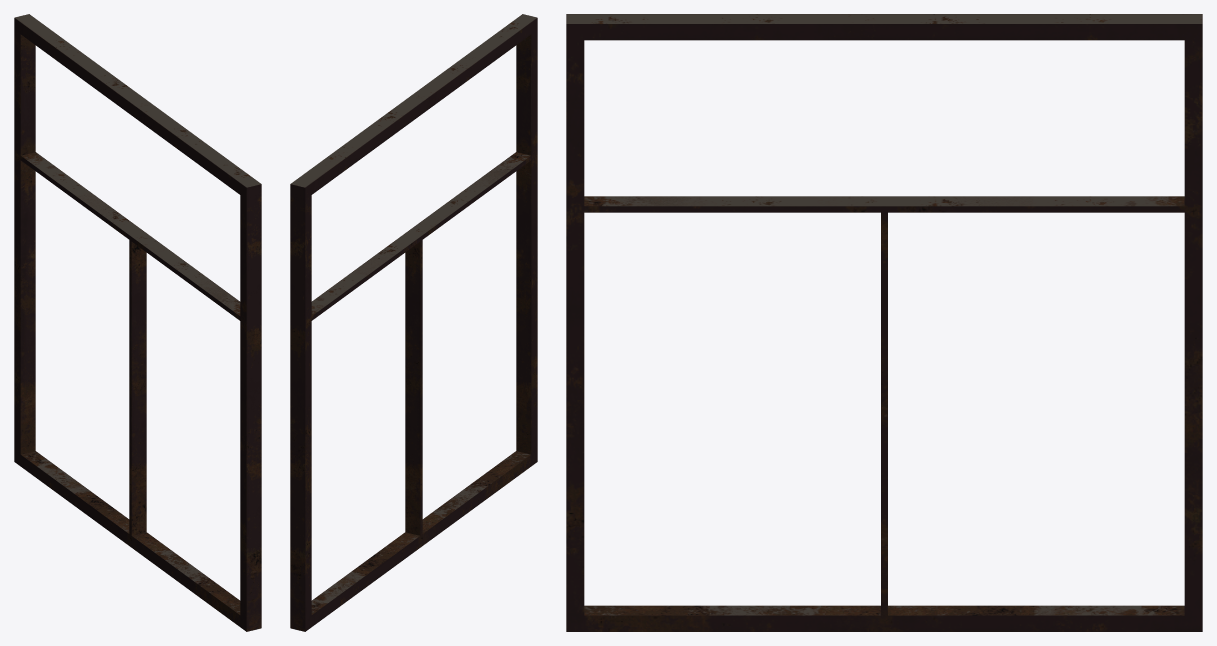
File: VENTANA4.fbx
The picture shows the model from 3 angles, left to right: view 1: azimuth 30°, elevation 25°; view 2: azimuth 150°, elevation 25°; view 3: azimuth 270°, elevation 25°; orthographic projection. The views are drawn at different scales.
Parts seen in each view (by area): view 1: ventana4; view 2: ventana4; view 3: ventana4.
Part boxes in pixels (bbox=[...]): ventana4: bbox=[14, 14, 261, 631]; ventana4: bbox=[290, 14, 537, 631]; ventana4: bbox=[566, 14, 1202, 631].
Size of the model in its own units: 7 by 197 by 187.
